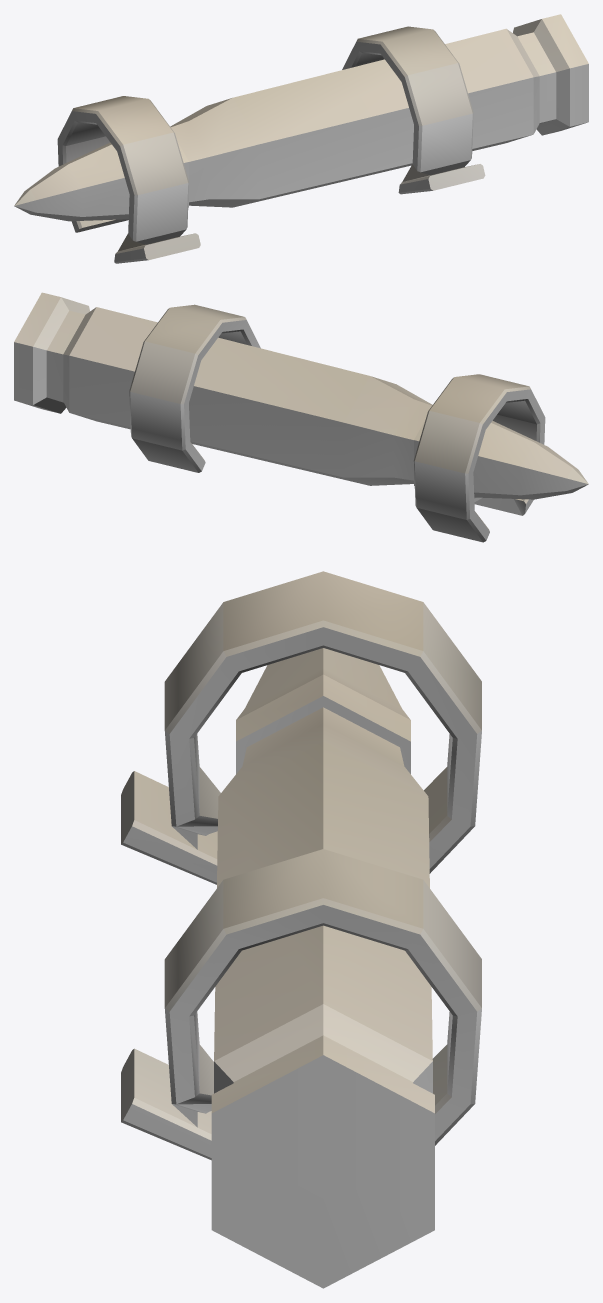
File: ammo-belt-link.glb
3 renders of one model, top to bottom at view 1: azimuth 30°, elevation 25°; view 2: azimuth 150°, elevation 25°; view 3: azimuth 270°, elevation 25°, orthographic. The views are drawn at different scales.
Parts seen in each view (by area): view 1: Body; view 2: Body; view 3: Body.
Boxes of the visible parts, x1,y1,x2,y2 form: Body: [14, 14, 588, 263]; Body: [14, 292, 588, 542]; Body: [121, 571, 481, 1288].
Bounding box in the file's own units: 0.3 × 0.0732 × 0.0858.
